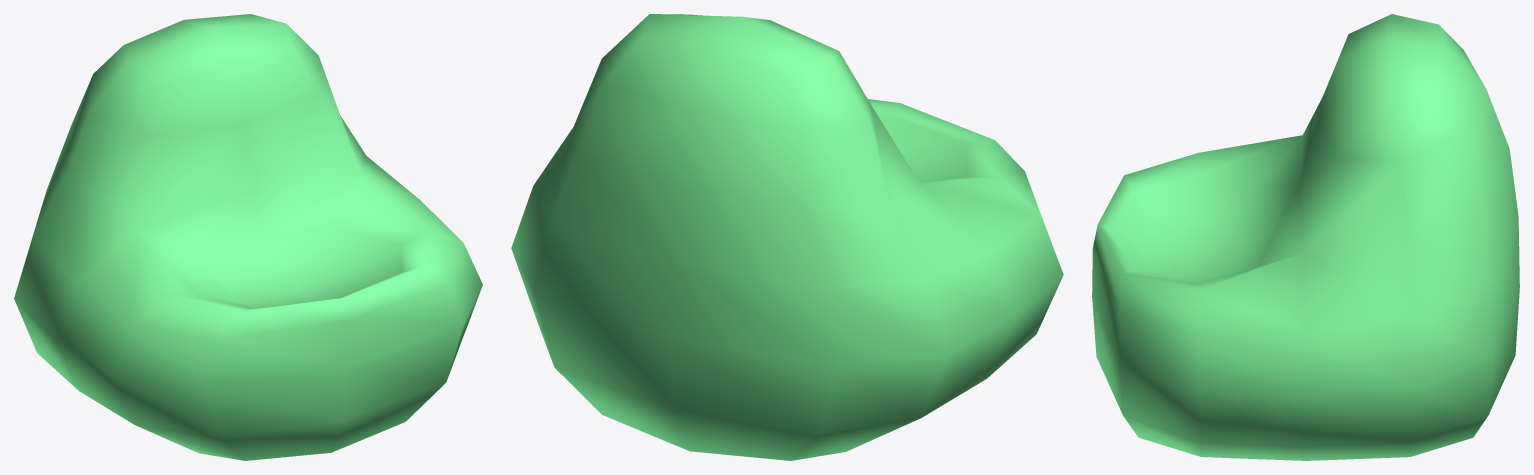
File: Props_BeanBag_02.fbx
3 renders of one model, left to right at view 1: azimuth 30°, elevation 25°; view 2: azimuth 150°, elevation 25°; view 3: azimuth 270°, elevation 25°, orthographic. The views are drawn at different scales.
Parts seen in each view (by area): view 1: Props_BeanBag_02; view 2: Props_BeanBag_02; view 3: Props_BeanBag_02.
Boxes of the visible parts, x1,y1,x2,y2 form: Props_BeanBag_02: [14, 14, 482, 460]; Props_BeanBag_02: [511, 14, 1063, 460]; Props_BeanBag_02: [1092, 14, 1519, 460].
Bounding box in the file's own units: 75.96 × 66.95 × 67.08.
